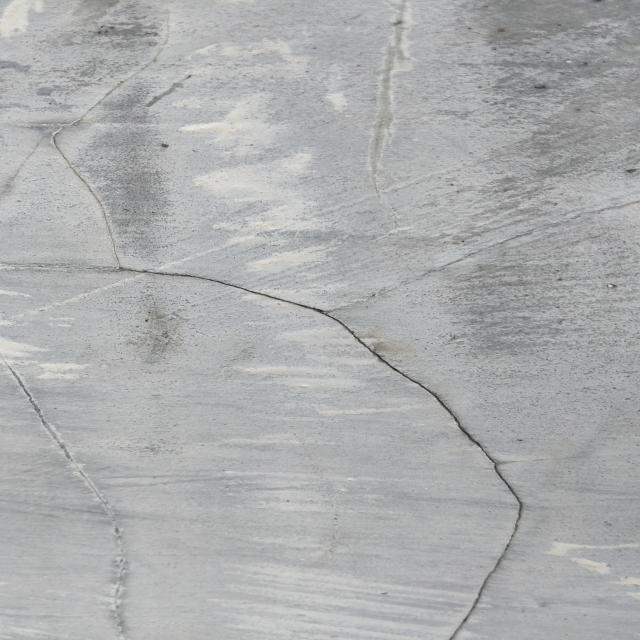Crack: (9, 96, 527, 638)
